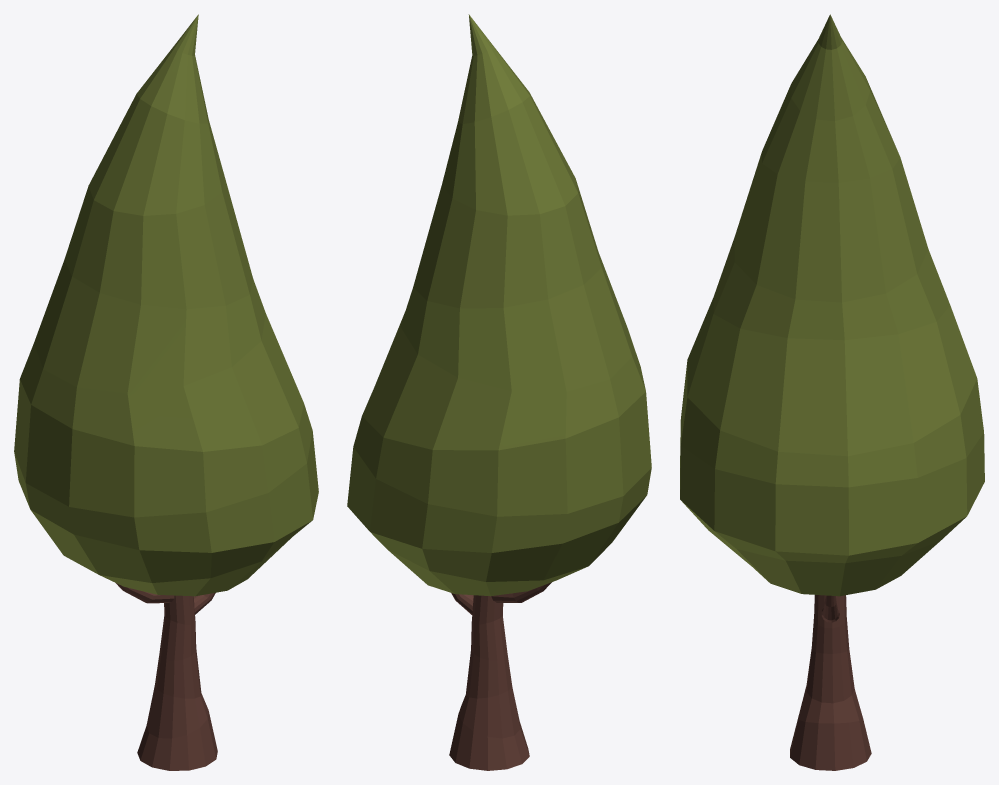
The model's file is tree_15.FBX.
3 views of the same model, side by side, from view 1: azimuth 30°, elevation 25°; view 2: azimuth 150°, elevation 25°; view 3: azimuth 270°, elevation 25° (orthographic). The views are drawn at different scales.
Visible parts, largest first — view 1: tree_15; view 2: tree_15; view 3: tree_15.
Part boxes in pixels (x1,y1,x2,y2): tree_15: (14, 14, 318, 770); tree_15: (347, 14, 651, 770); tree_15: (680, 14, 984, 770).
Bounding box in the file's own units: 3.75 × 9.96 × 3.67.
1 material, 1 textured.
